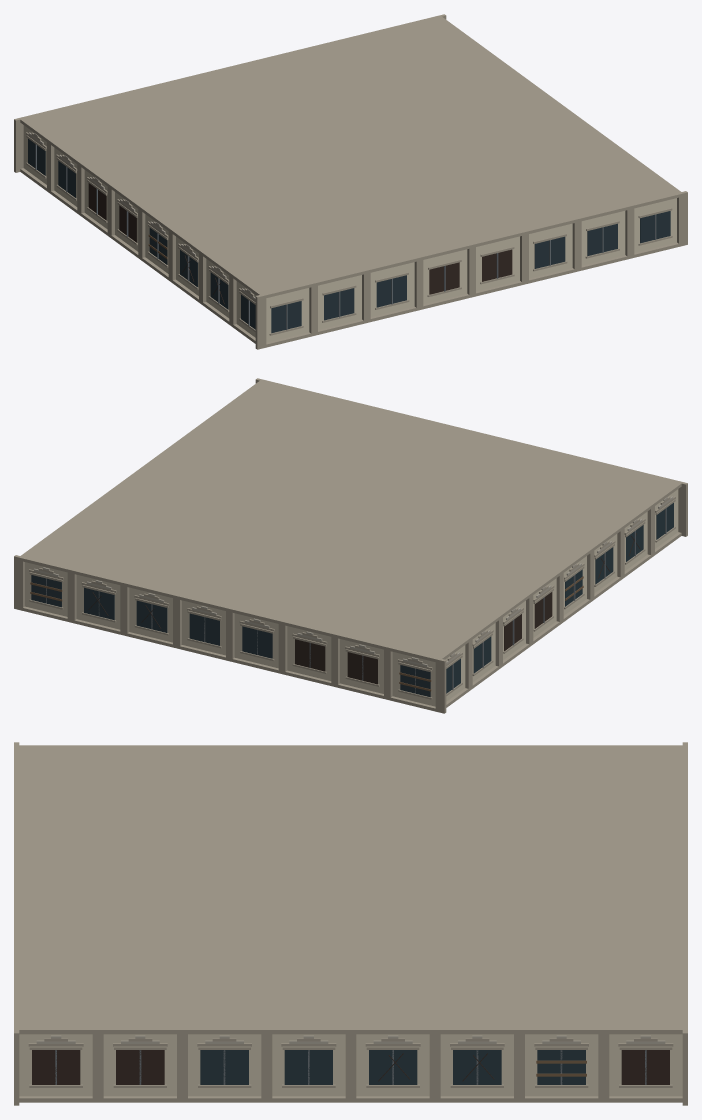
Rendered from tw_deco_32_floor_b.glb.
The picture shows the model from 3 angles, top to bottom: view 1: azimuth 30°, elevation 25°; view 2: azimuth 150°, elevation 25°; view 3: azimuth 270°, elevation 25°; orthographic projection. The views are drawn at different scales.
Visible parts, largest first — view 1: tw_deco_32_floor_b; view 2: tw_deco_32_floor_b; view 3: tw_deco_32_floor_b.
Boxes of the visible parts, box(x1,y1,x2,y2) form: tw_deco_32_floor_b: box(14, 14, 687, 349); tw_deco_32_floor_b: box(14, 378, 687, 713); tw_deco_32_floor_b: box(14, 742, 687, 1105).
Size of the model in its own units: 32.68 by 3.8 by 32.
2 materials, 2 textured.
